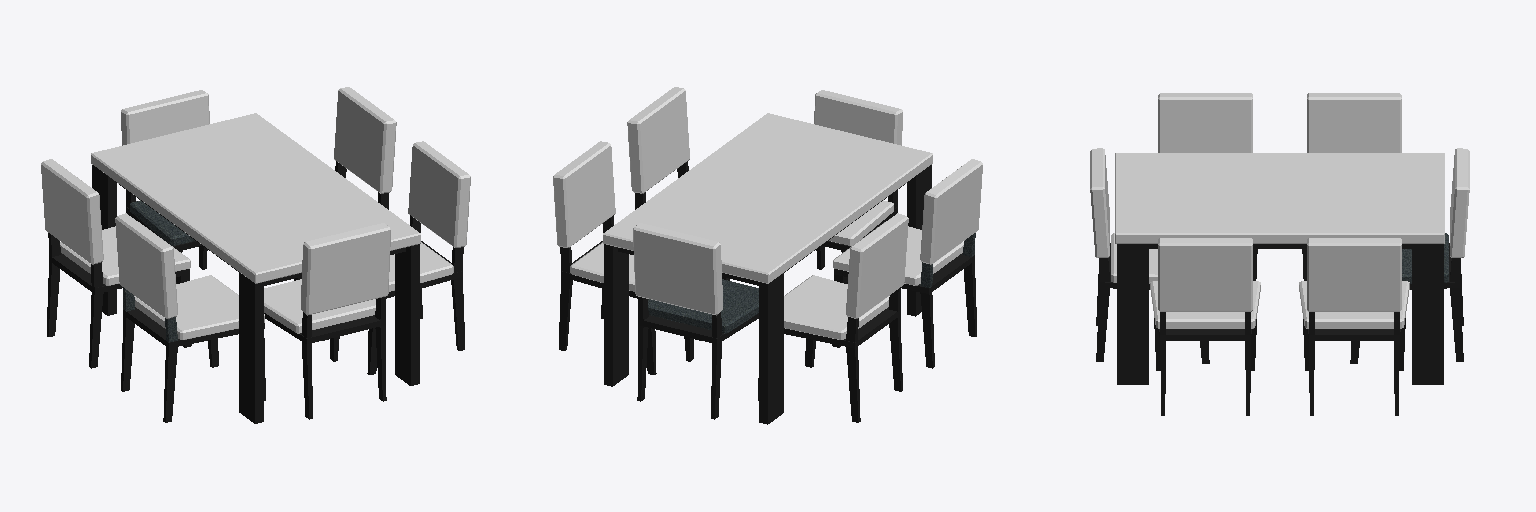
The picture shows the model from 3 angles: view 1: azimuth 30°, elevation 25°; view 2: azimuth 150°, elevation 25°; view 3: azimuth 270°, elevation 25°; orthographic projection.
Visible parts, largest first — view 1: polySurface41; view 2: polySurface41; view 3: polySurface41.
Part boxes in pixels (bbox=[...]): polySurface41: bbox=[41, 87, 470, 423]; polySurface41: bbox=[553, 87, 982, 424]; polySurface41: bbox=[1090, 93, 1469, 415].
Size of the model in its own units: 15.59 by 8.5 by 16.52.
3 materials, 1 textured.